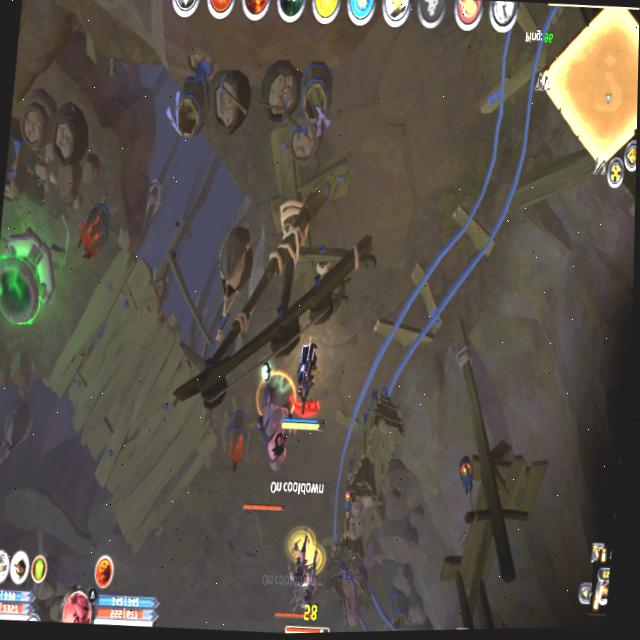ore: (241, 355, 302, 517), (274, 535, 340, 634)
red: (279, 333, 331, 435)
